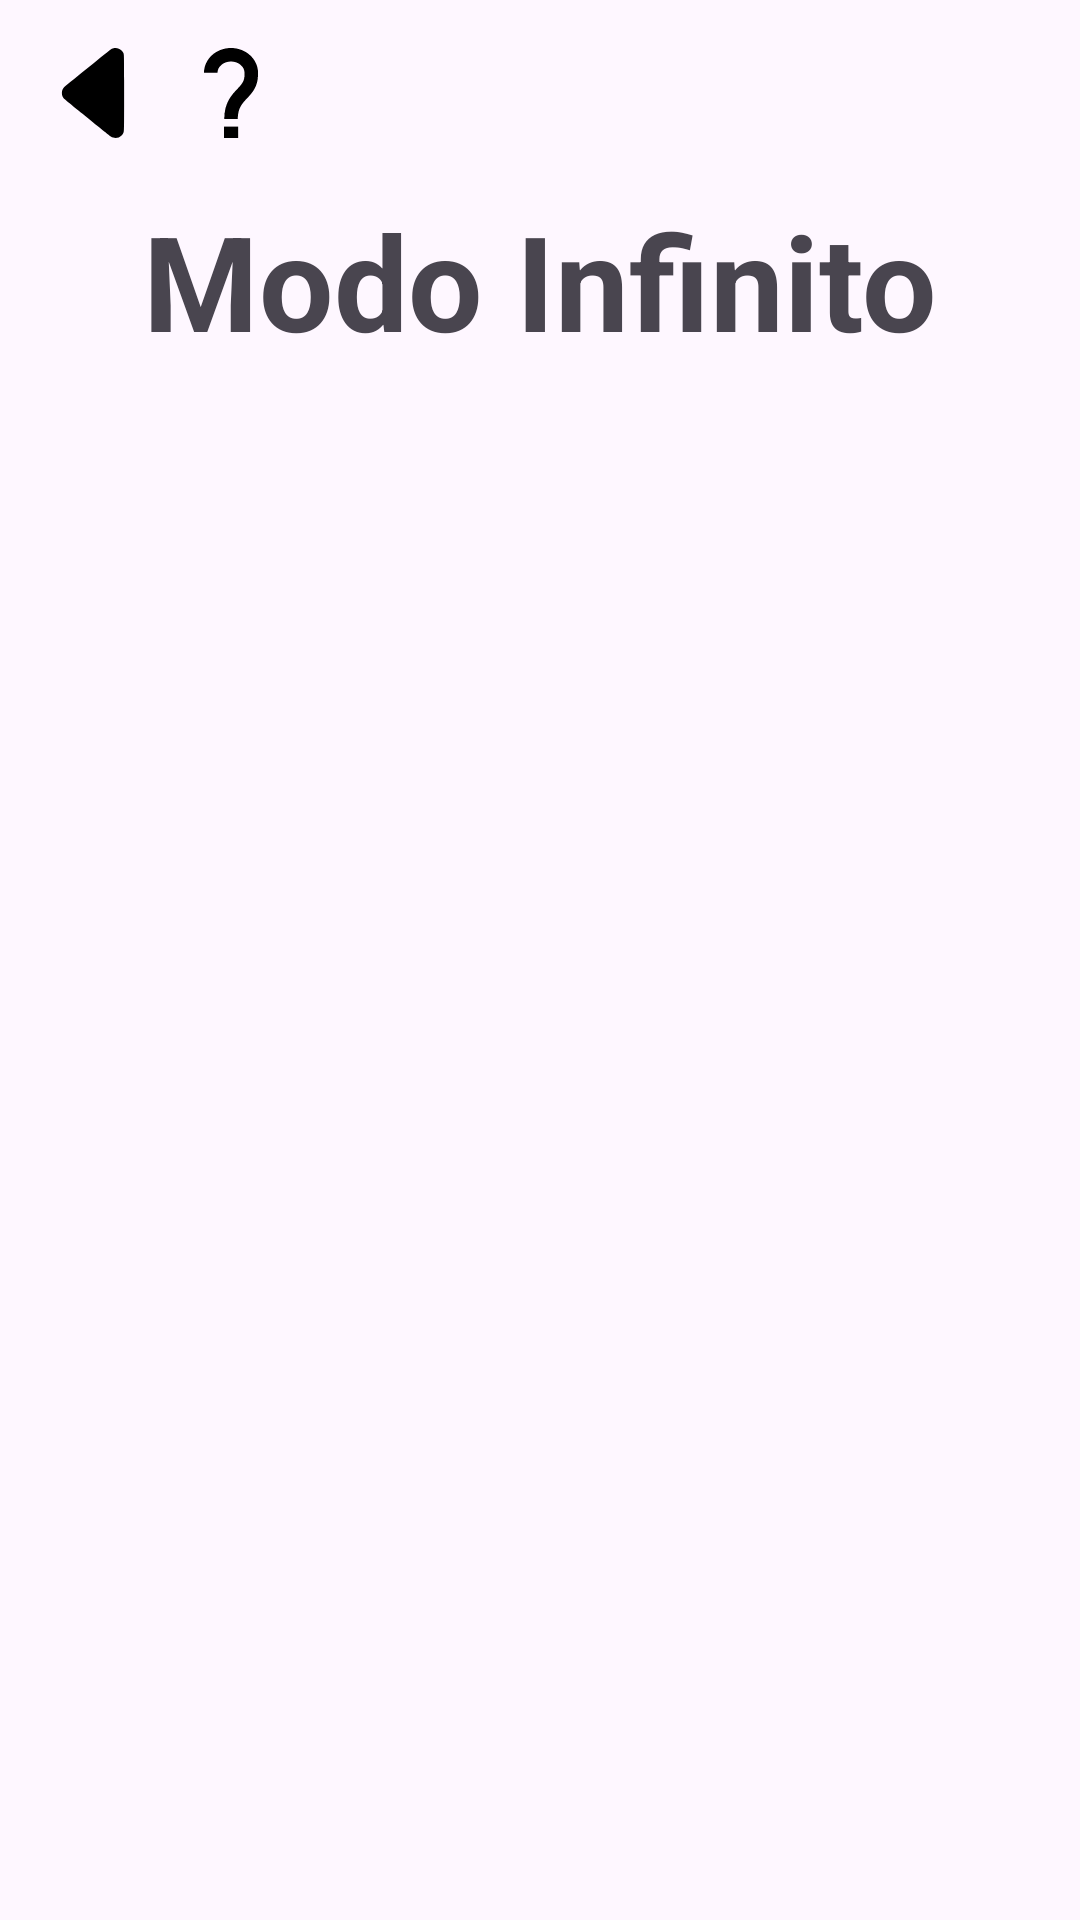

Icons on this 1080px×1920px Android screen, each with its box as (x1, y1, x2, y2):
Regras do jogo: (204, 48, 258, 138)
Voltar para a tela inicial: (62, 48, 125, 138)
